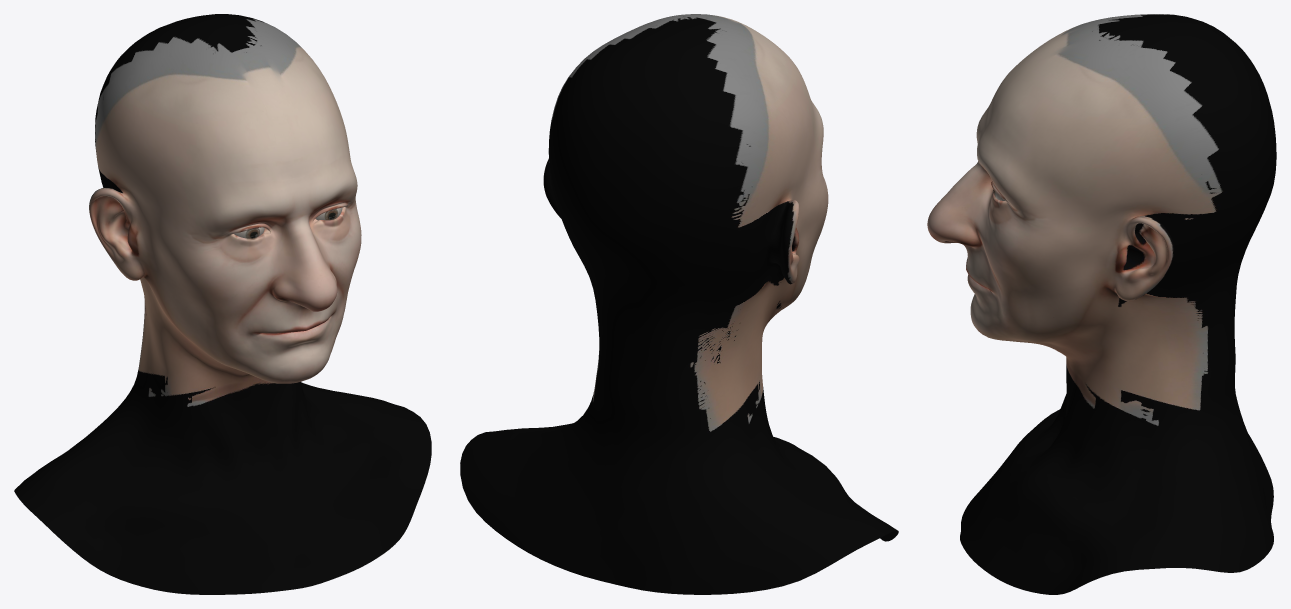
The model's file is postmaster-kt2.glb.
3 renders of one model, left to right at view 1: azimuth 30°, elevation 25°; view 2: azimuth 150°, elevation 25°; view 3: azimuth 270°, elevation 25°, orthographic. The views are drawn at different scales.
Parts seen in each view (by area): view 1: mesh; view 2: mesh; view 3: mesh.
Boxes of the visible parts, x1,y1,x2,y2 form: mesh: (14, 14, 431, 594); mesh: (460, 14, 898, 594); mesh: (927, 14, 1276, 594).
Bounding box in the file's own units: 2.9 × 3.5 × 2.19.
4 materials, 4 textured.
